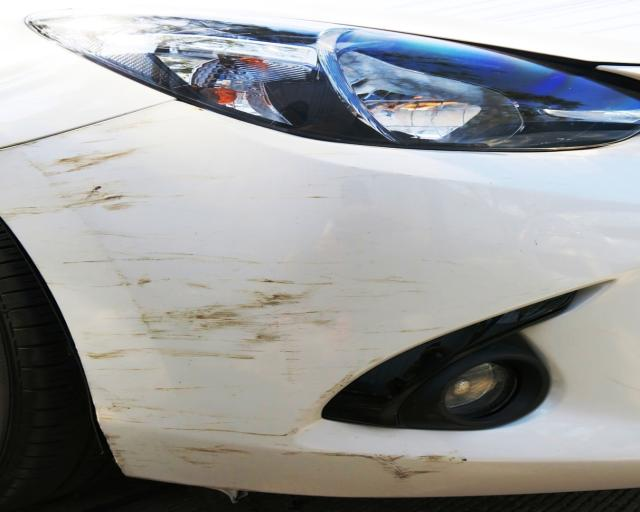scratch: (0, 101, 486, 483)
